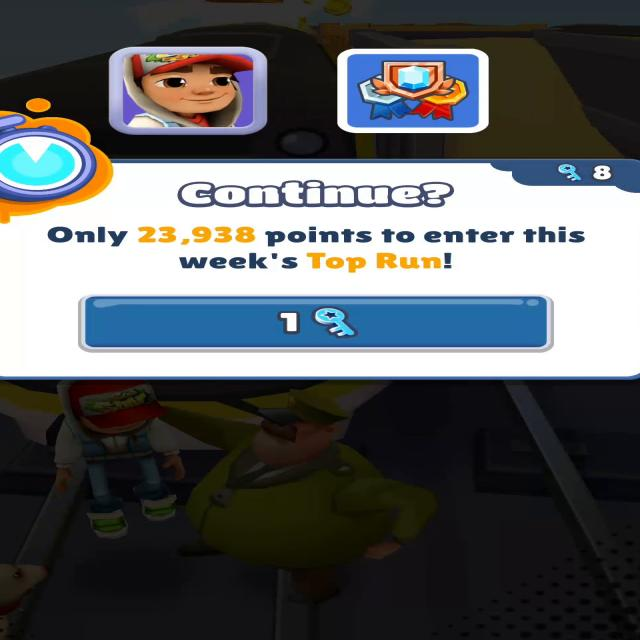police: (165, 385, 436, 603)
